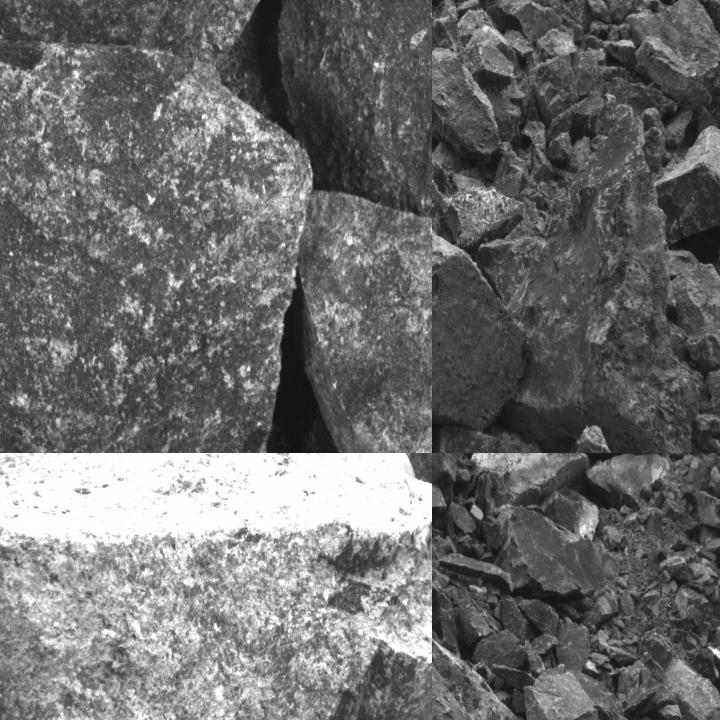stone: (0, 31, 314, 452), (0, 453, 431, 719), (477, 109, 700, 452), (279, 0, 431, 240), (299, 187, 431, 452), (432, 205, 528, 420), (491, 506, 606, 607), (432, 141, 523, 252), (432, 49, 501, 162), (656, 126, 719, 248), (665, 254, 719, 386), (630, 2, 719, 77), (474, 453, 583, 507), (587, 453, 671, 507), (546, 88, 625, 142), (523, 665, 600, 719), (662, 649, 719, 719), (528, 50, 579, 124), (635, 40, 694, 100), (555, 425, 665, 452), (432, 640, 469, 719), (546, 487, 601, 540), (499, 0, 561, 45), (460, 43, 514, 90), (432, 431, 547, 452), (624, 668, 674, 714), (470, 628, 527, 668), (554, 616, 589, 672), (514, 594, 558, 638), (573, 48, 609, 97), (432, 589, 459, 654), (432, 0, 463, 55), (495, 150, 526, 198), (691, 487, 719, 532), (535, 29, 576, 58), (642, 638, 670, 679), (503, 26, 535, 61), (604, 37, 636, 71), (432, 453, 457, 494), (565, 135, 589, 173), (530, 146, 554, 182), (522, 119, 548, 152), (432, 476, 449, 526), (546, 134, 572, 163), (584, 0, 612, 24), (706, 367, 719, 418), (653, 702, 688, 719), (703, 0, 719, 34)
